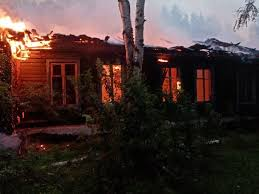fire: (2, 11, 53, 63)
